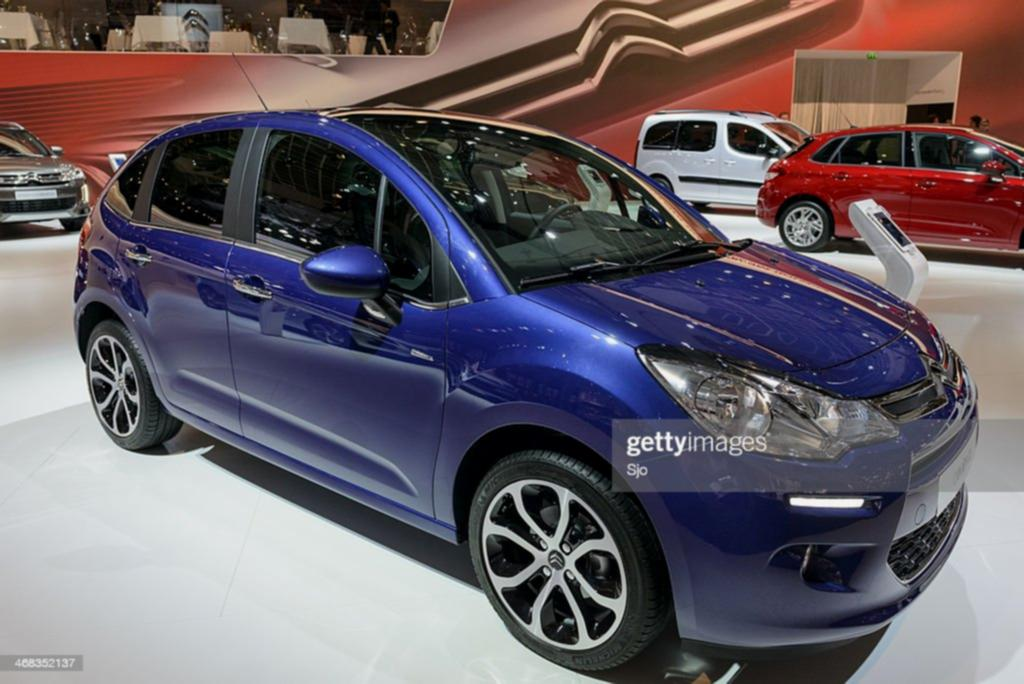Citroen: (909, 348, 966, 411)
